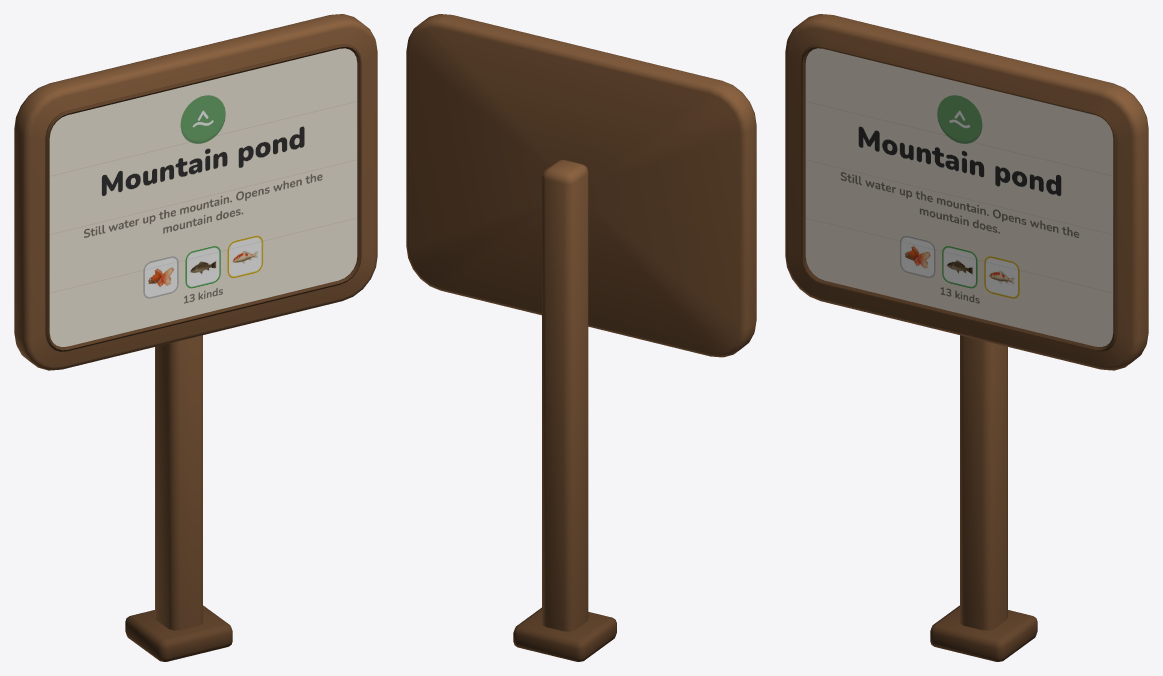
Rendered from water-sign-pond-hd.glb.
3 views of the same model, side by side, from view 1: azimuth 30°, elevation 25°; view 2: azimuth 150°, elevation 25°; view 3: azimuth 330°, elevation 25° (orthographic). The views are drawn at different scales.
Parts seen in each view (by area): view 1: water-sign; view 2: water-sign; view 3: water-sign.
Boxes of the visible parts, x1,y1,x2,y2 form: water-sign: (14, 14, 377, 661); water-sign: (406, 14, 756, 661); water-sign: (785, 14, 1148, 661).
Bounding box in the file's own units: 1.15 × 1.87 × 0.253.
2 materials, 1 textured.
